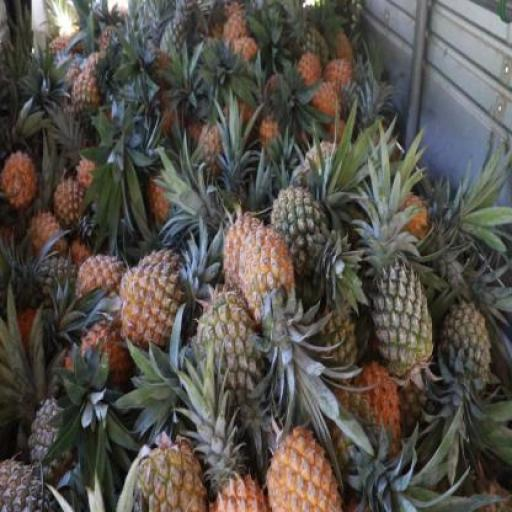------------------------------: (192, 290, 263, 400), (268, 189, 332, 287), (134, 443, 207, 512), (72, 67, 104, 126)
Pineapple - v8 v1: (120, 245, 190, 346), (262, 428, 340, 511), (237, 226, 298, 328), (224, 215, 273, 304), (77, 249, 124, 310), (56, 178, 94, 232), (5, 151, 38, 210)
